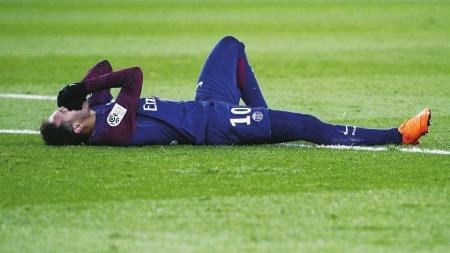falling: (24, 28, 438, 149)
